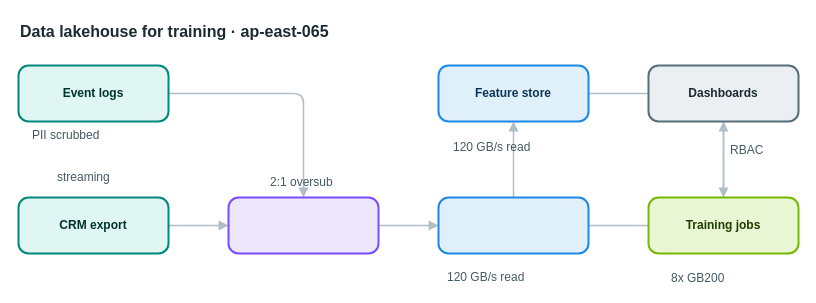
The diagram is 816 pixels wide and 303 high, and some of its shapes have lost their labels. The shapes that lost their labels are listed below. From the top down, each one's box as (x1, y1, x2, y2) in pixels, then its label:
(227, 196, 379, 254): Stream bus
(437, 196, 589, 254): Lakehouse
